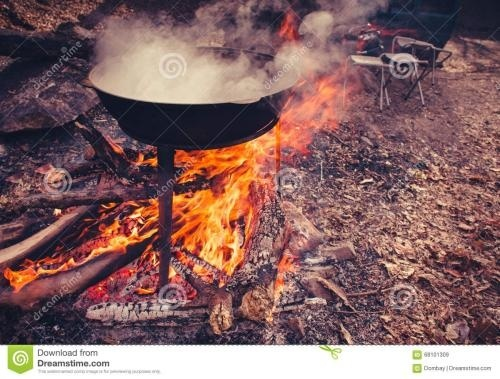fire: (8, 131, 296, 286), (270, 4, 357, 145)
